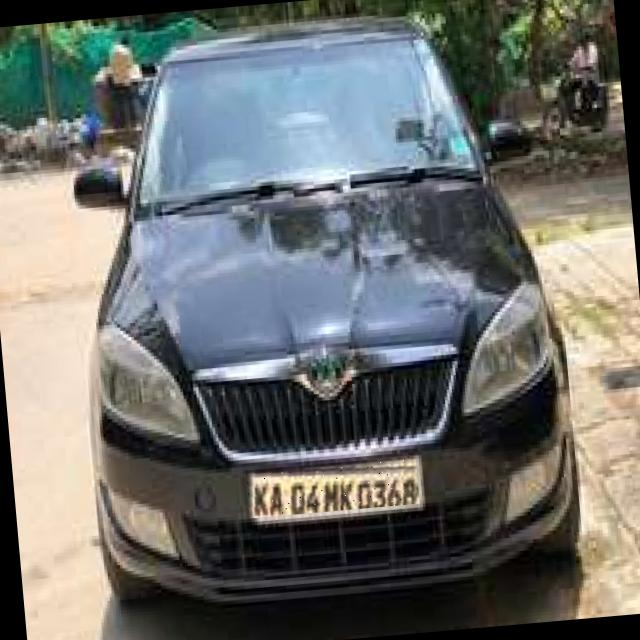Plate: (246, 456, 421, 519)
